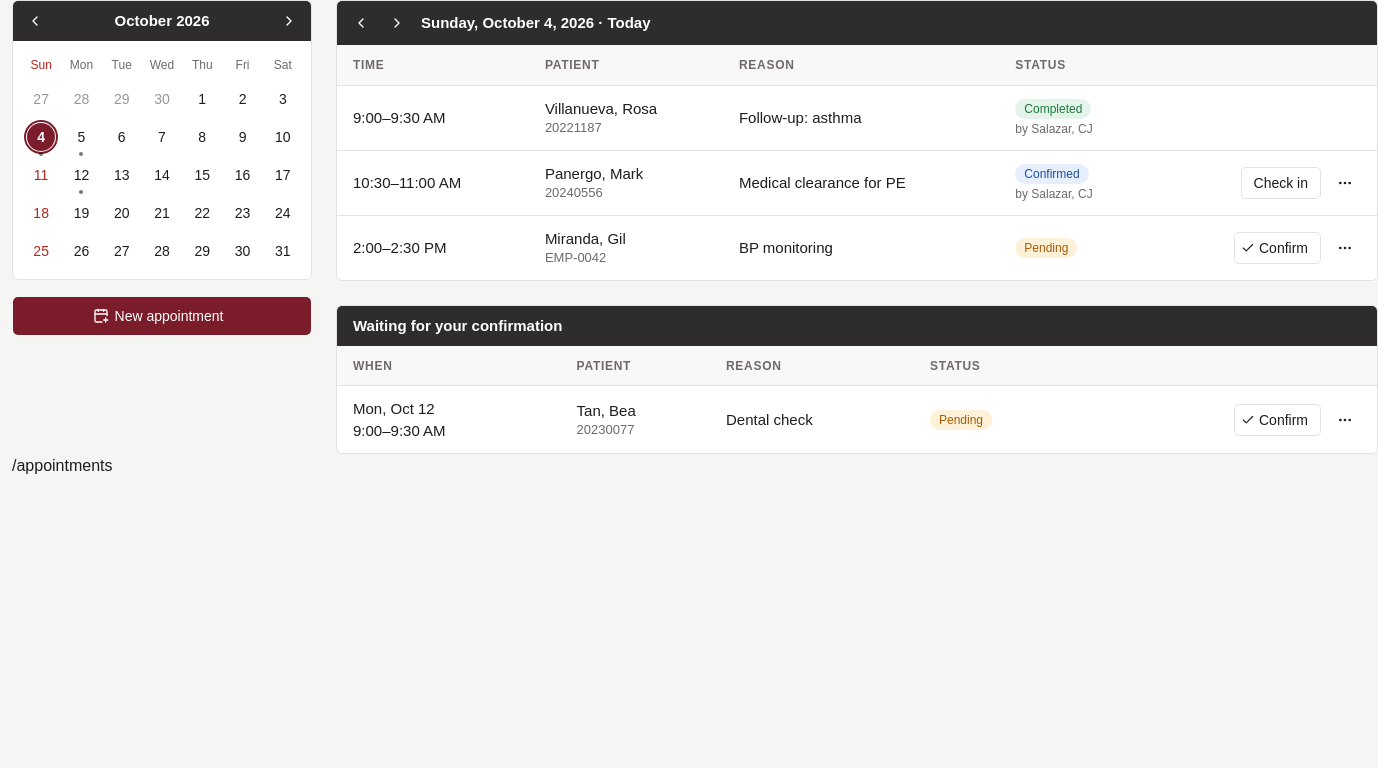
the coordinator confirms a pending appointment
Click the button with aria-label "Confirm appointment for Miranda, Gil". click: point(1278, 248)
box: [1234,232,1321,264]
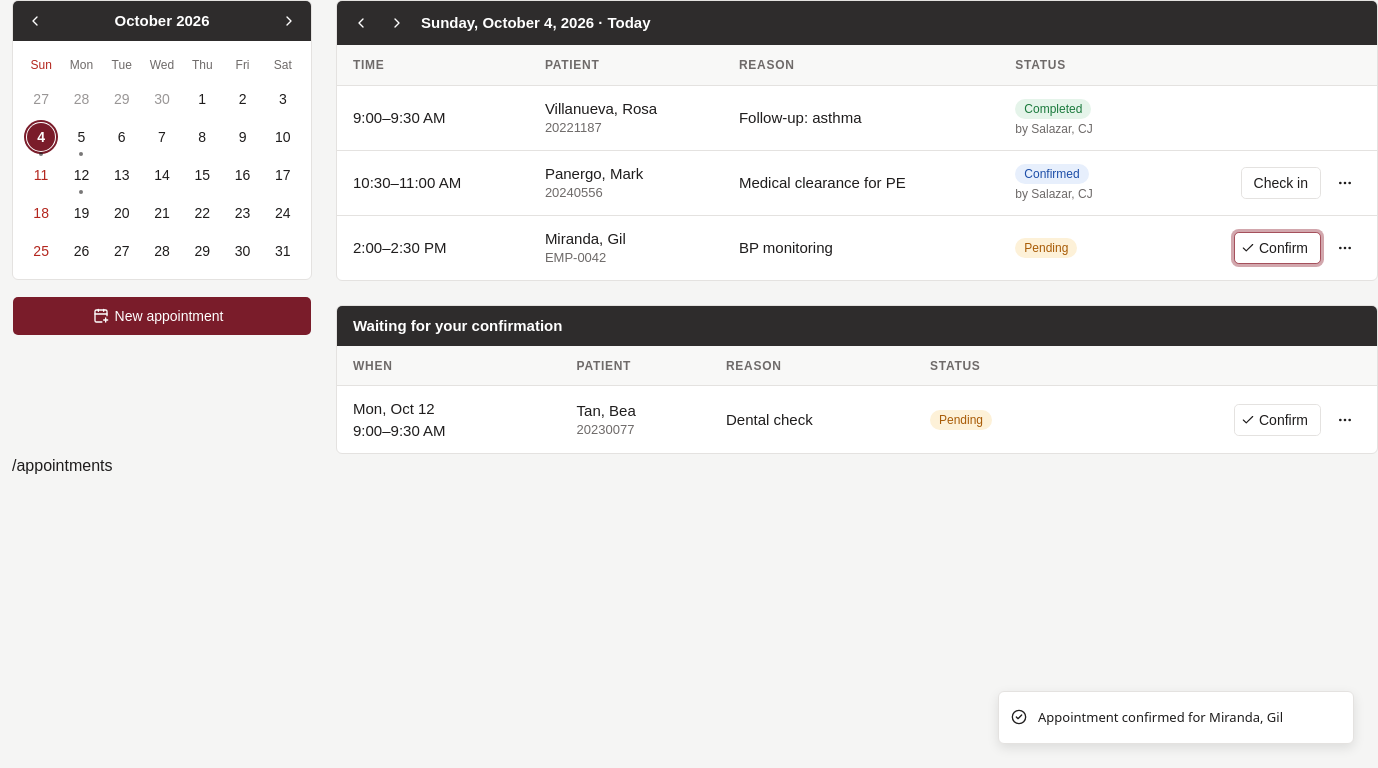
Now the text "Appointment confirmed for Miranda, Gil" is shown, box [1038,708,1283,727]
